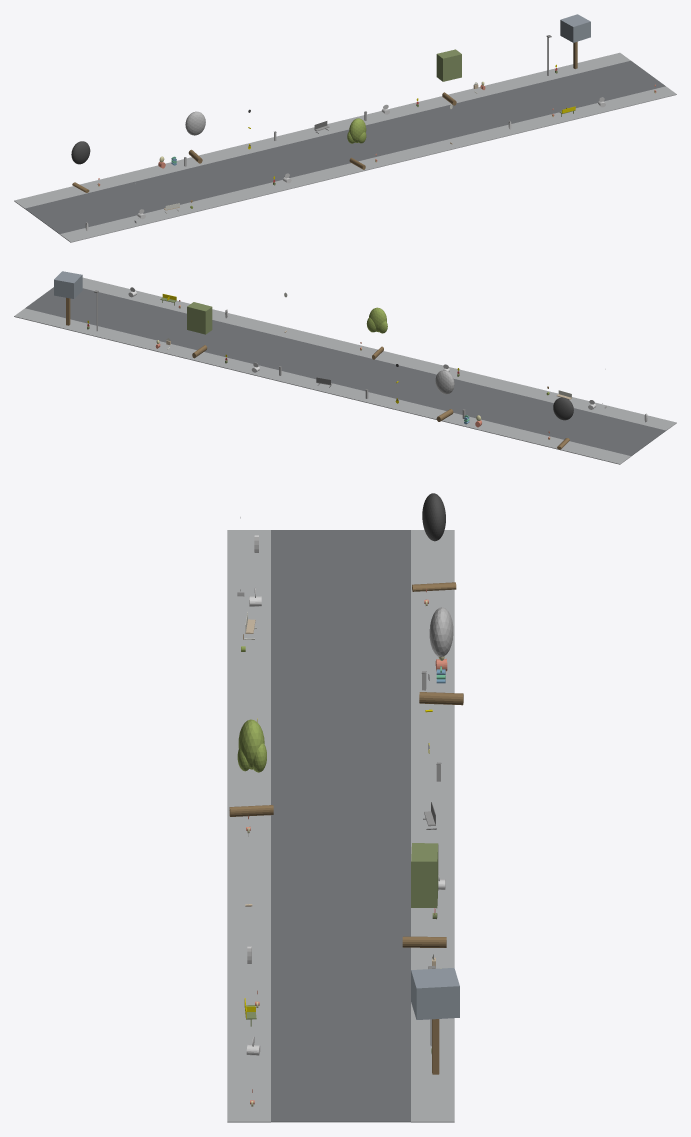
3 renders of one model, top to bottom at view 1: azimuth 30°, elevation 25°; view 2: azimuth 150°, elevation 25°; view 3: azimuth 270°, elevation 25°, orthographic. The views are drawn at different scales.
Parts seen in each view (by area): view 1: road_slab, sidewalk_left, sidewalk_right, inst_0016, inst_0015, inst_0014, inst_0013, inst_0012; view 2: road_slab, sidewalk_right, sidewalk_left, inst_0015, inst_0016, inst_0014, inst_0013, inst_0012; view 3: road_slab, sidewalk_left, sidewalk_right, inst_0016, inst_0015, inst_0014, inst_0013, inst_0012.
Boxes of the visible parts, <box> form: road_slab: <box>25,60,665,234</box>; sidewalk_left: <box>60,86,676,242</box>; sidewalk_right: <box>14,52,630,208</box>; inst_0016: <box>560,14,590,68</box>; inst_0015: <box>436,49,461,105</box>; inst_0014: <box>347,118,366,169</box>; inst_0013: <box>185,111,205,163</box>; inst_0012: <box>71,141,90,192</box>; road_slab: <box>25,287,665,456</box>; sidewalk_right: <box>14,308,630,464</box>; sidewalk_left: <box>82,277,676,430</box>; inst_0015: <box>187,302,212,358</box>; inst_0016: <box>54,271,82,325</box>; inst_0014: <box>366,307,387,359</box>; inst_0013: <box>435,370,454,421</box>; inst_0012: <box>553,397,573,449</box>; road_slab: <box>271,530,410,1122</box>; sidewalk_left: <box>227,530,270,1122</box>; sidewalk_right: <box>411,530,454,1122</box>; inst_0016: <box>411,967,459,1074</box>; inst_0015: <box>402,843,446,947</box>; inst_0014: <box>229,719,273,816</box>; inst_0013: <box>419,607,463,705</box>; inst_0012: <box>412,493,456,591</box>.
Size of the model in its own units: 80 by 6.08 by 13.52.
